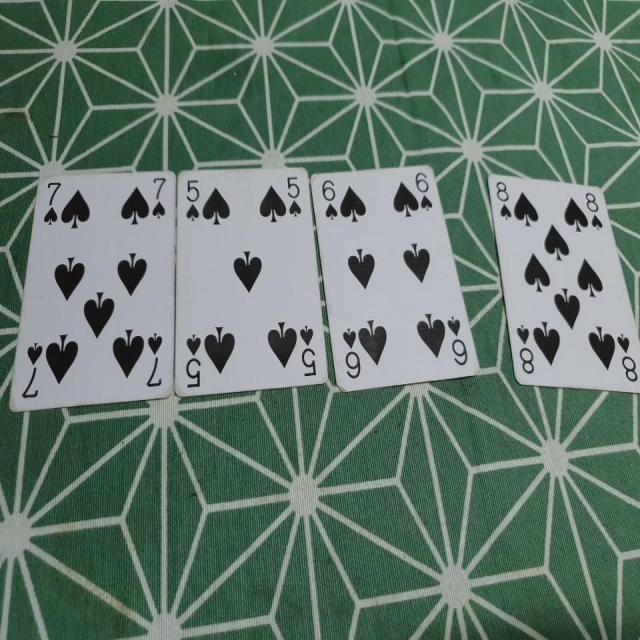5 Spades: (175, 162, 328, 406)
6 Spades: (310, 154, 486, 396)
7 Spades: (2, 170, 179, 410)
8 Spades: (487, 174, 635, 394)
